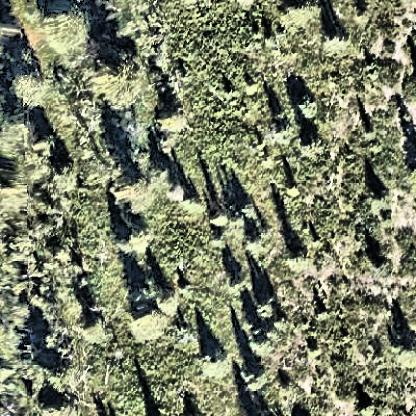tree-top: (87, 46, 151, 101), (42, 3, 93, 46), (9, 63, 51, 105), (127, 297, 169, 338), (151, 99, 194, 135), (118, 222, 156, 258), (318, 22, 350, 52), (387, 333, 416, 366), (200, 341, 233, 369), (291, 93, 321, 121), (299, 132, 330, 158), (251, 294, 278, 322), (285, 245, 313, 270), (84, 315, 105, 347), (370, 184, 393, 207), (181, 193, 205, 215), (225, 272, 250, 293), (373, 252, 394, 276)
